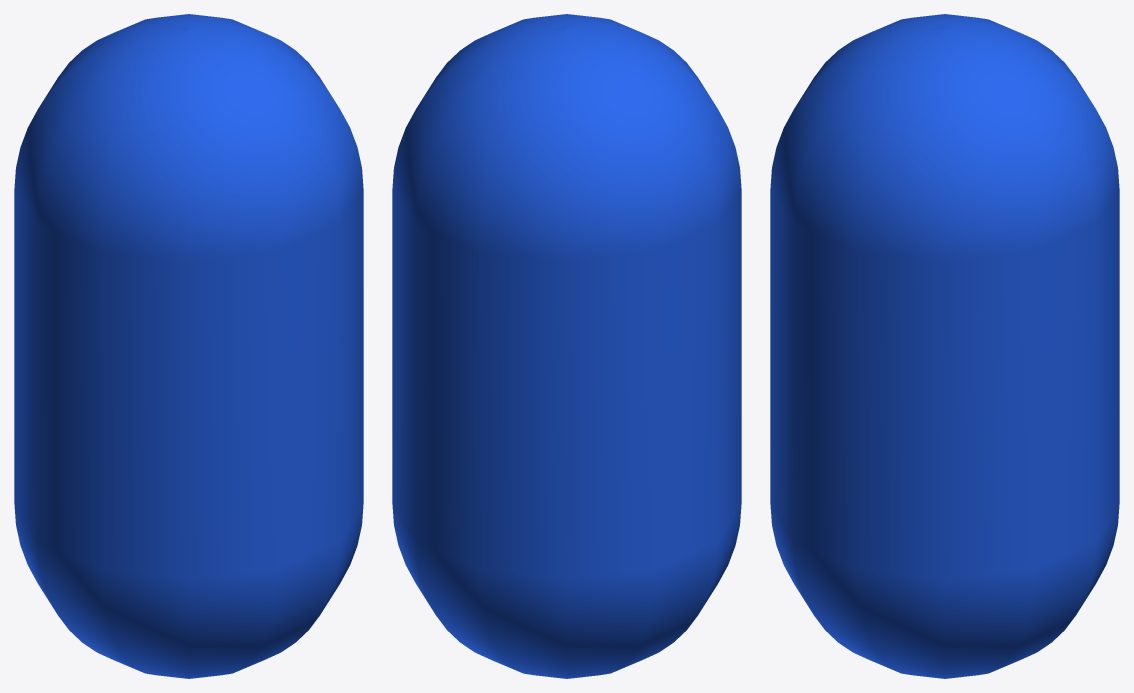
Rendered from character.glb.
3 renders of one model, left to right at view 1: azimuth 30°, elevation 25°; view 2: azimuth 150°, elevation 25°; view 3: azimuth 270°, elevation 25°, orthographic.
Parts seen in each view (by area): view 1: Character; view 2: Character; view 3: Character.
Boxes of the visible parts, left/top/right/bottom form: Character: left=14, top=14, right=363, bottom=678; Character: left=392, top=14, right=741, bottom=678; Character: left=770, top=14, right=1119, bottom=678.
Bounding box in the file's own units: 0.9 × 1.8 × 0.9.
